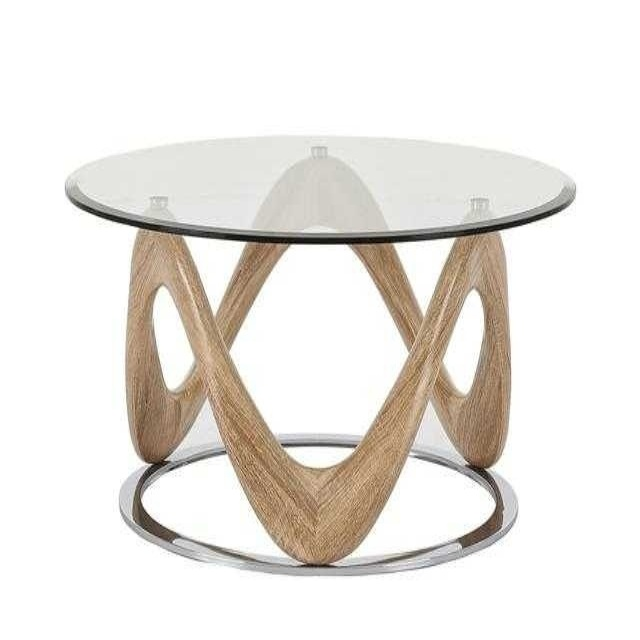obstacle: (66, 137, 574, 567)
